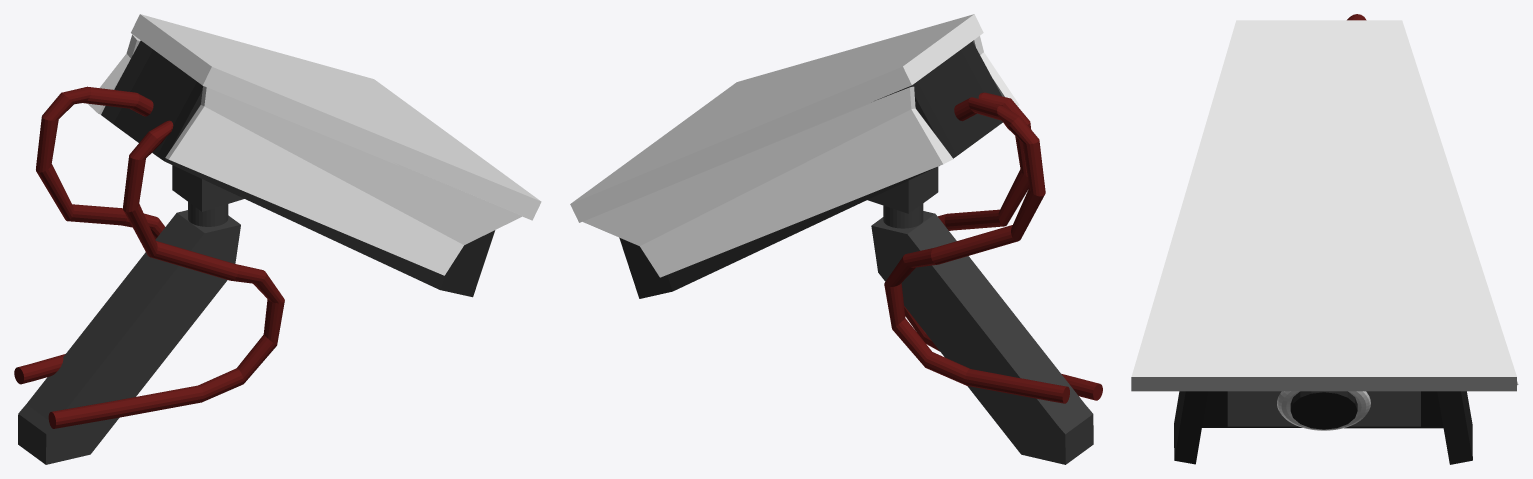
Rendered from cameras.fbx_Camera.fbx.
3 views of the same model, side by side, from view 1: azimuth 30°, elevation 25°; view 2: azimuth 150°, elevation 25°; view 3: azimuth 270°, elevation 25° (orthographic). The views are drawn at different scales.
Visible parts, largest first — view 1: Cube.003; view 2: Cube.003; view 3: Cube.003.
Boxes of the visible parts, x1,y1,x2,y2 form: Cube.003: (14,14,541,464); Cube.003: (570,14,1102,464); Cube.003: (1131,14,1518,464).
Size of the model in its own units: 3061 by 2608 by 2085.
